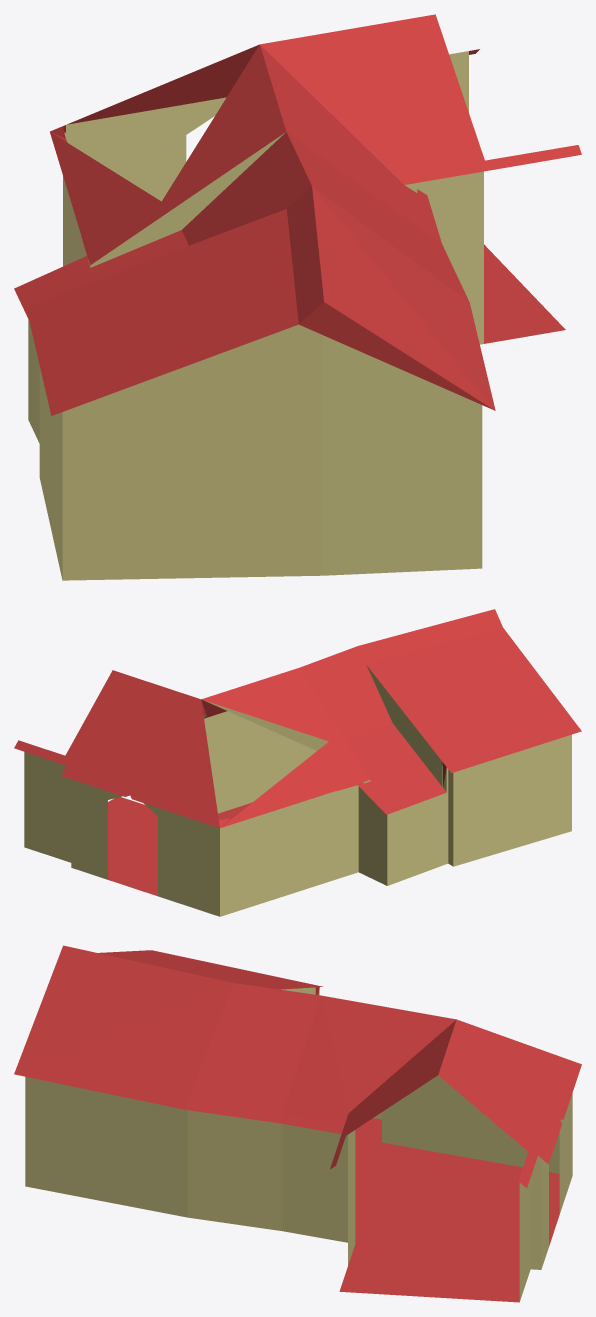
3 renders of one model, top to bottom at view 1: azimuth 30°, elevation 25°; view 2: azimuth 150°, elevation 25°; view 3: azimuth 270°, elevation 25°, orthographic. The views are drawn at different scales.
Bounding box in the file's own units: 32.54 × 32.95 × 12.54.
